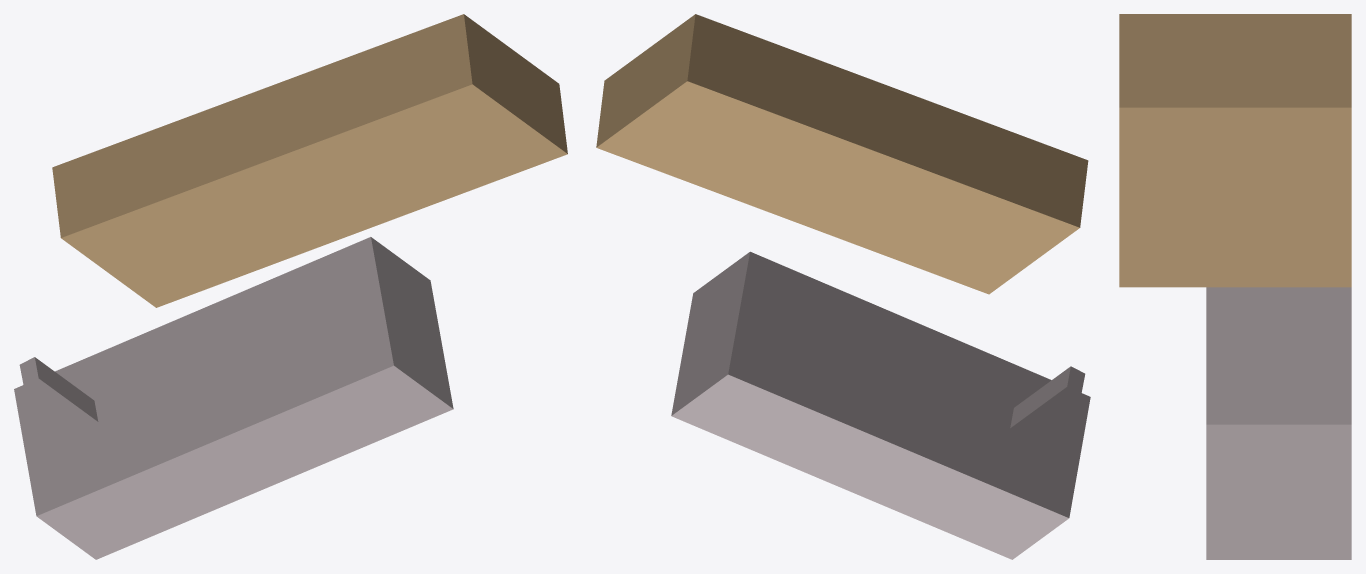
The picture shows the model from 3 angles, left to right: view 1: azimuth 30°, elevation 25°; view 2: azimuth 150°, elevation 25°; view 3: azimuth 270°, elevation 25°; orthographic projection. The views are drawn at different scales.
Parts seen in each view (by area): view 1: 0_3_0_1_1_2_3_1; view 2: 0_3_0_1_1_2_3_1; view 3: 0_3_0_1_1_2_3_1.
Boxes of the visible parts, x1,y1,x2,y2 form: 0_3_0_1_1_2_3_1: [14, 14, 567, 559]; 0_3_0_1_1_2_3_1: [596, 14, 1090, 559]; 0_3_0_1_1_2_3_1: [1119, 14, 1351, 559].
Size of the model in its own units: 66.55 by 55.2 by 24.
